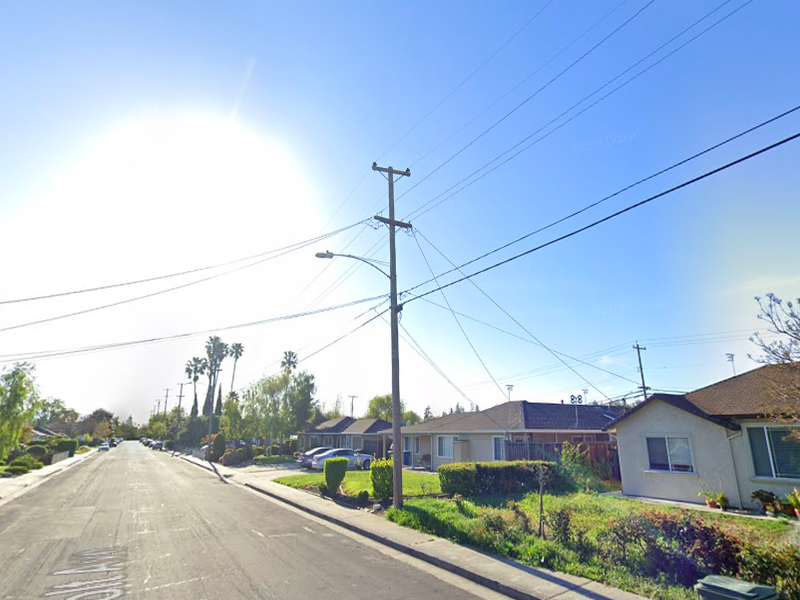utility_pole: (359, 154, 423, 249)
